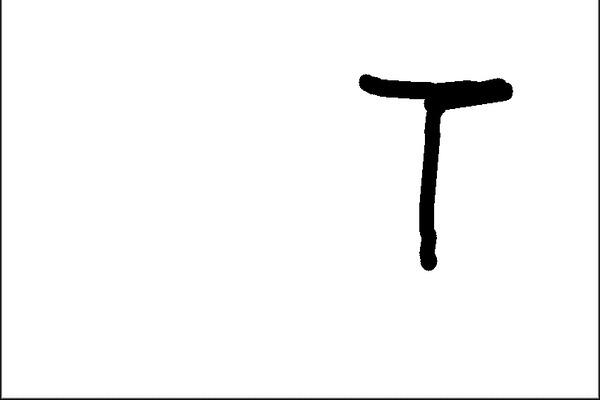T: (355, 64, 524, 274)
